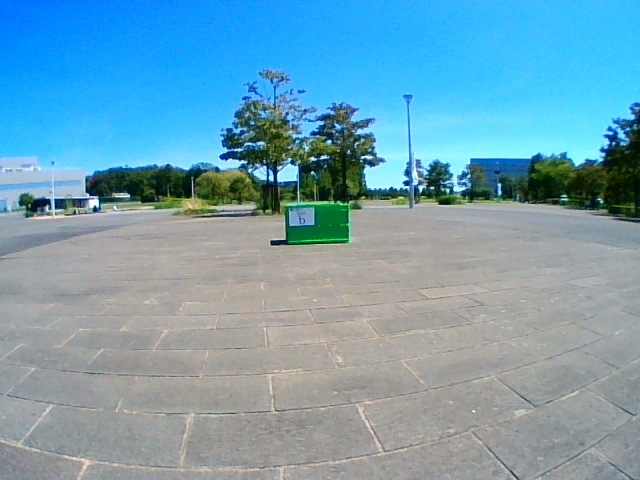green_box: (285, 202, 349, 243)
tag_b: (289, 207, 313, 225)
